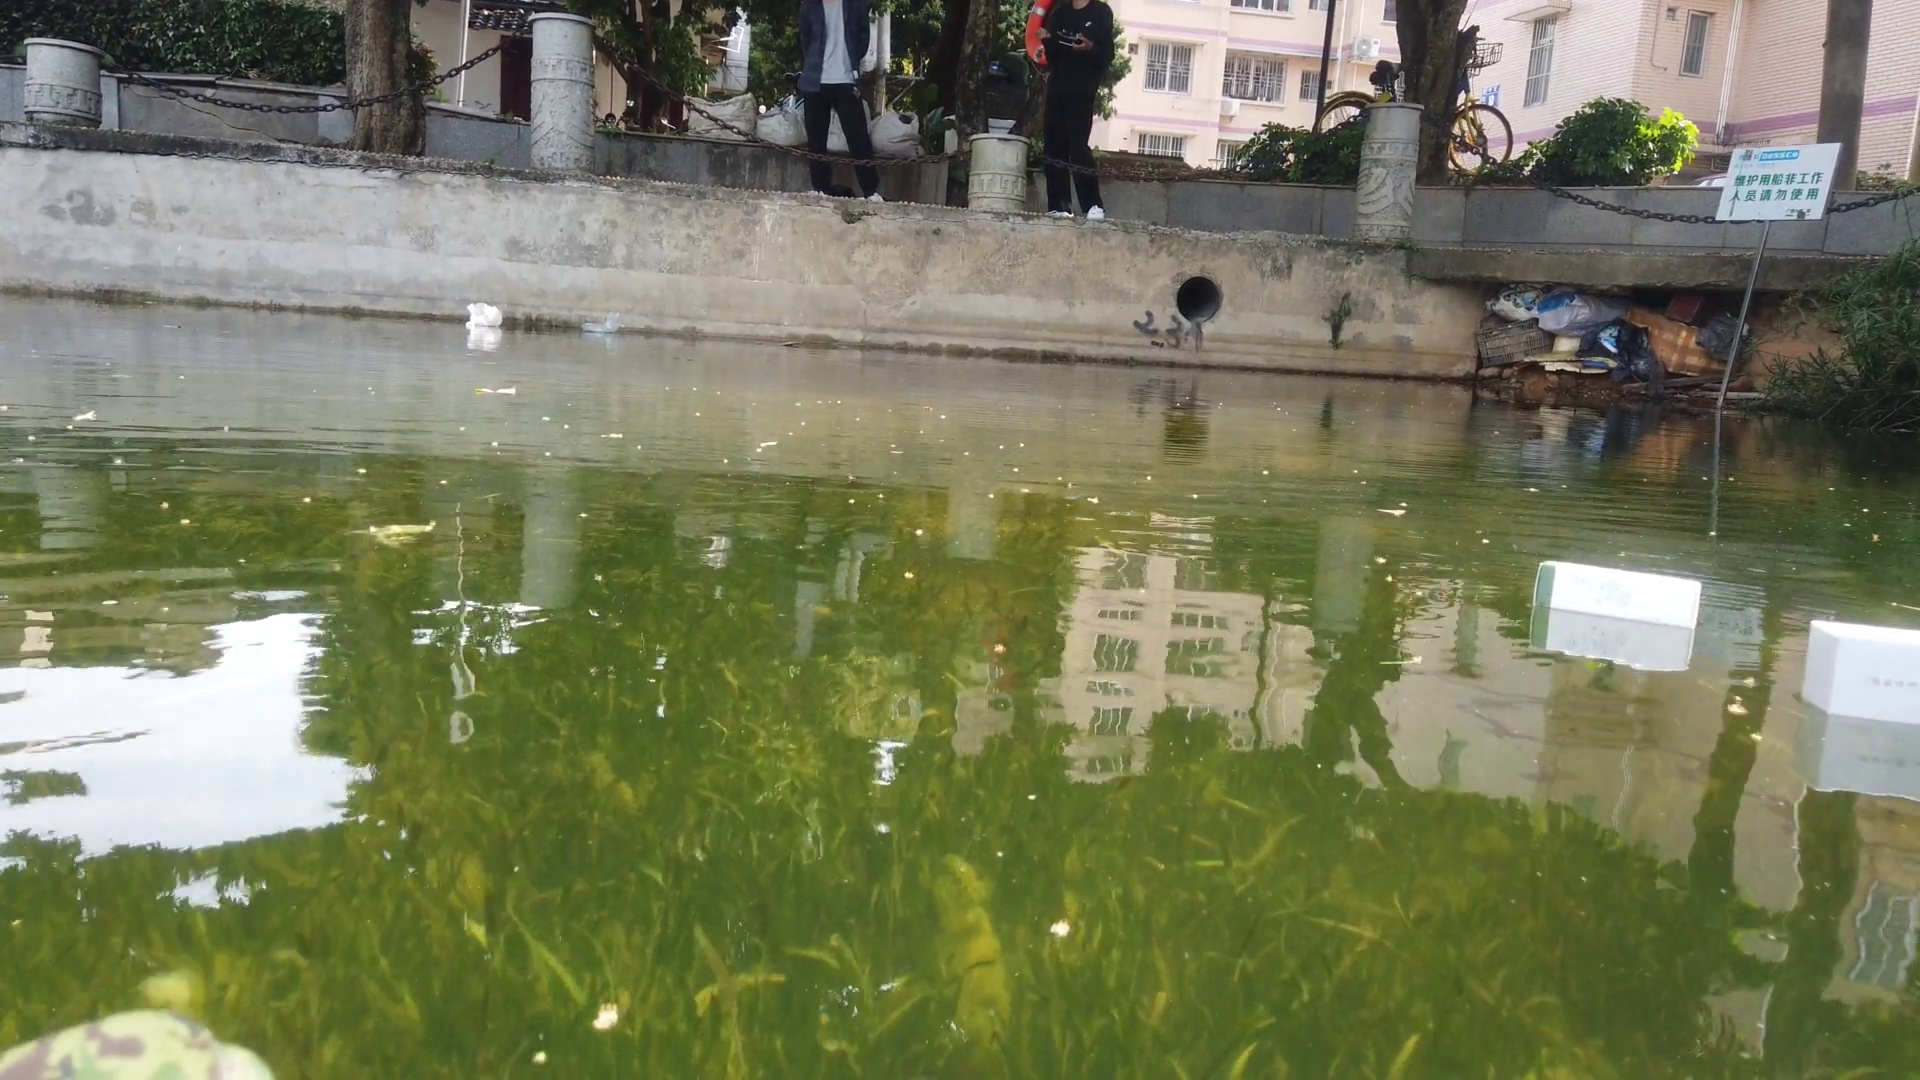carton: (1803, 615, 1917, 723), (1532, 558, 1702, 629)
paper: (762, 334, 804, 351)
plastic: (582, 313, 625, 334), (465, 302, 502, 326)
